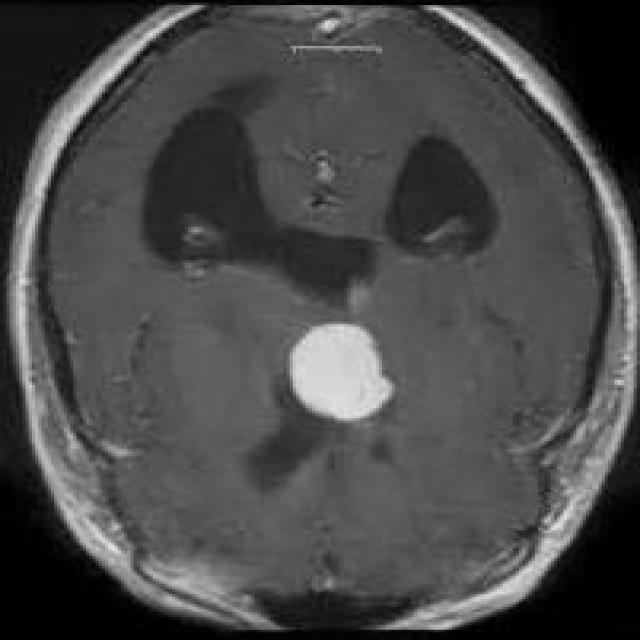Tumor: (283, 307, 393, 418)
